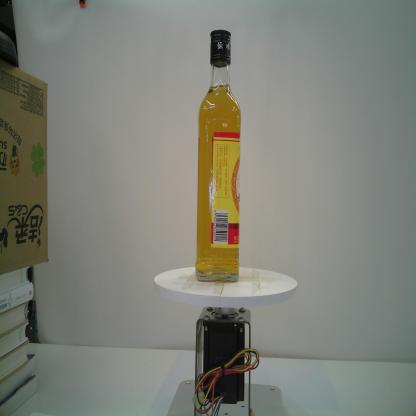Seasoner: (193, 28, 244, 286)
